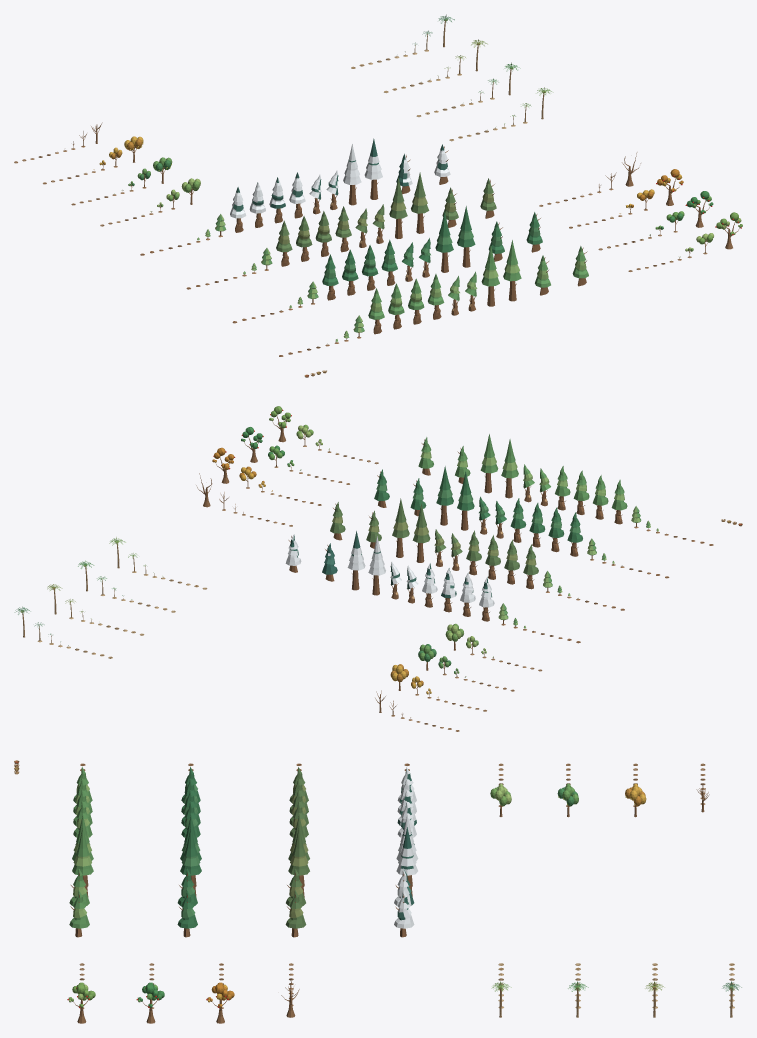
Rendered from ağaçlar.fbx.
The picture shows the model from 3 angles, top to bottom: view 1: azimuth 30°, elevation 25°; view 2: azimuth 150°, elevation 25°; view 3: azimuth 270°, elevation 25°; orthographic projection. The views are drawn at different scales.
Visible parts, largest first — view 1: no part large enough to name; view 2: no part large enough to name; view 3: SONBAHAR_Ağaç3.001, KIŞ_Ağaç3.001, YAZ_Ağaç3.001, İLKBAHAR_Ağaç3.001, SONBAHAR_Ağaç4.001, KIŞ_Ağaç4.001, YAZ_Ağaç4.001, İLKBAHAR_Ağaç4.001.
Part boxes in pixels (left/top/right/bottom): SONBAHAR_Ağaç3.001: left=288, top=827, right=309, bottom=885; KIŞ_Ağaç3.001: left=396, top=827, right=417, bottom=886; YAZ_Ağaç3.001: left=180, top=827, right=201, bottom=886; İLKBAHAR_Ağaç3.001: left=72, top=827, right=93, bottom=885; SONBAHAR_Ağaç4.001: left=285, top=890, right=306, bottom=928; KIŞ_Ağaç4.001: left=394, top=890, right=414, bottom=928; YAZ_Ağaç4.001: left=177, top=890, right=197, bottom=928; İLKBAHAR_Ağaç4.001: left=69, top=890, right=89, bottom=928.
Size of the model in its own units: 262 by 32.69 by 303.
